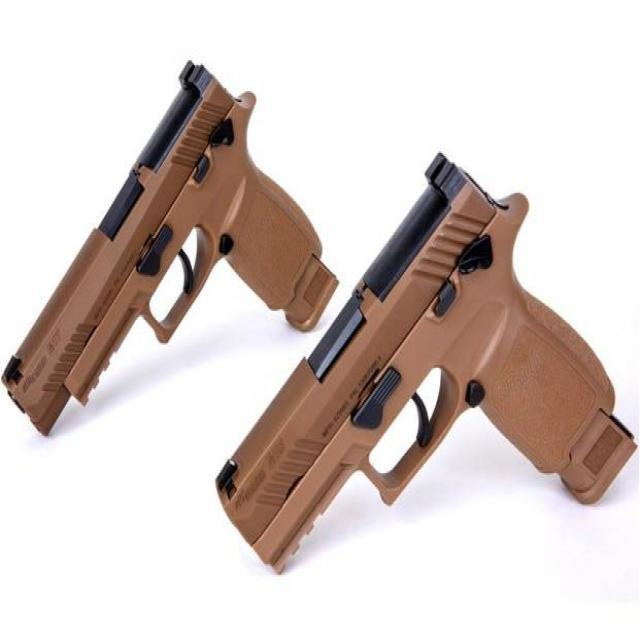pistol: (6, 55, 366, 464)
